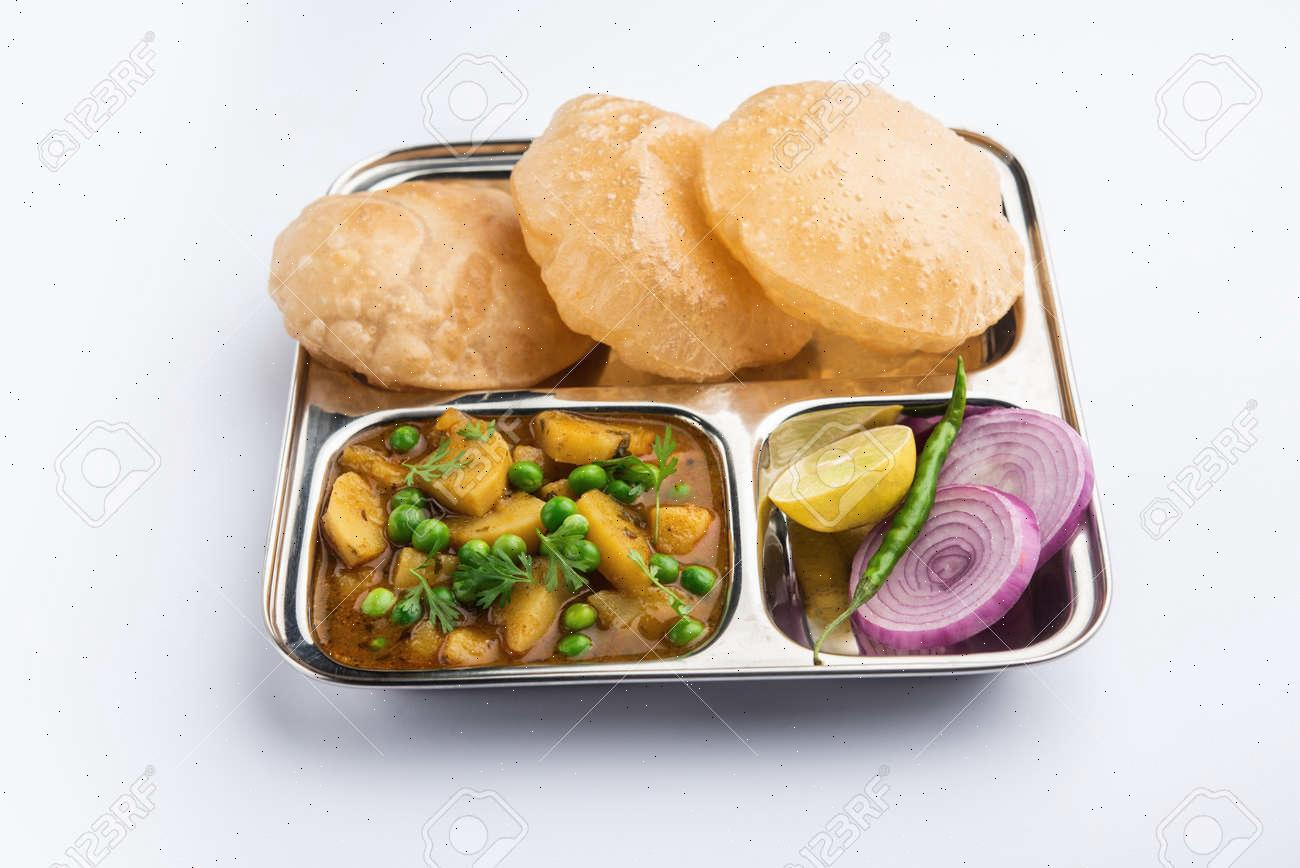puri: (277, 130, 1048, 365)
